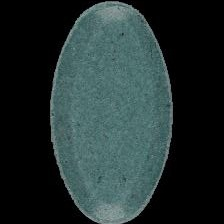54868-4873: (0, 0, 224, 224)
